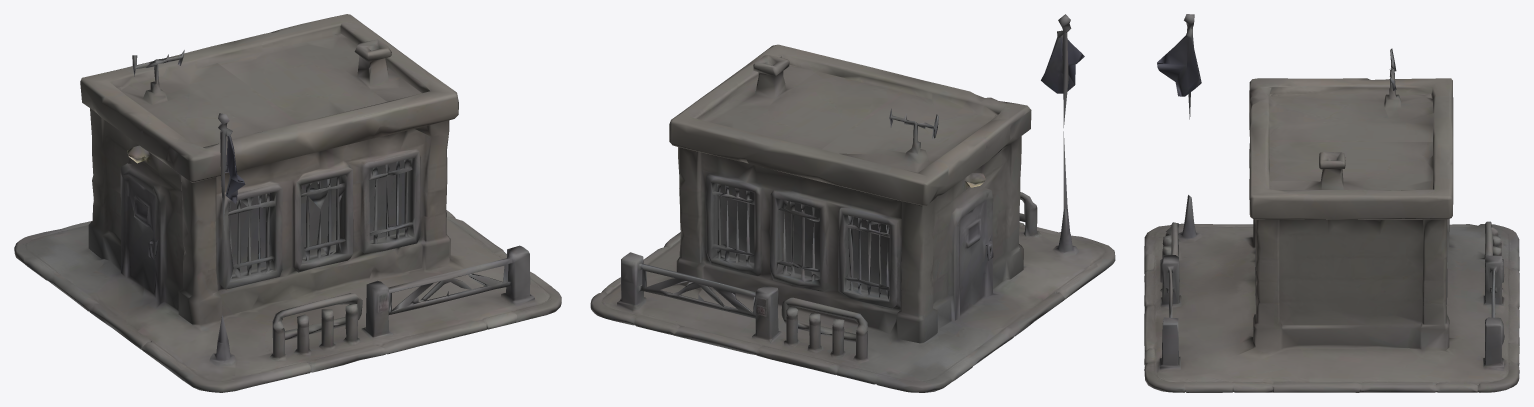
The model's file is police_station_main.glb.
3 views of the same model, side by side, from view 1: azimuth 30°, elevation 25°; view 2: azimuth 150°, elevation 25°; view 3: azimuth 270°, elevation 25° (orthographic). The views are drawn at different scales.
Visible parts, largest first — view 1: tripo_node_697bdd73-e636-4ed1-a3b3-32d6a53690cc; view 2: tripo_node_697bdd73-e636-4ed1-a3b3-32d6a53690cc; view 3: tripo_node_697bdd73-e636-4ed1-a3b3-32d6a53690cc.
Part boxes in pixels (x1,y1,x2,y2): tripo_node_697bdd73-e636-4ed1-a3b3-32d6a53690cc: (14,14,561,392); tripo_node_697bdd73-e636-4ed1-a3b3-32d6a53690cc: (590,14,1115,392); tripo_node_697bdd73-e636-4ed1-a3b3-32d6a53690cc: (1144,14,1519,392).
Size of the model in its own units: 1 by 0.6684 by 0.968.
Materials: 1 (1 with a texture image).
